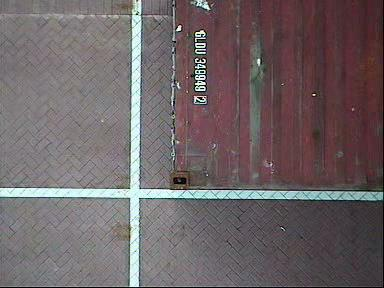groundmarker_2: (125, 66, 231, 150)
